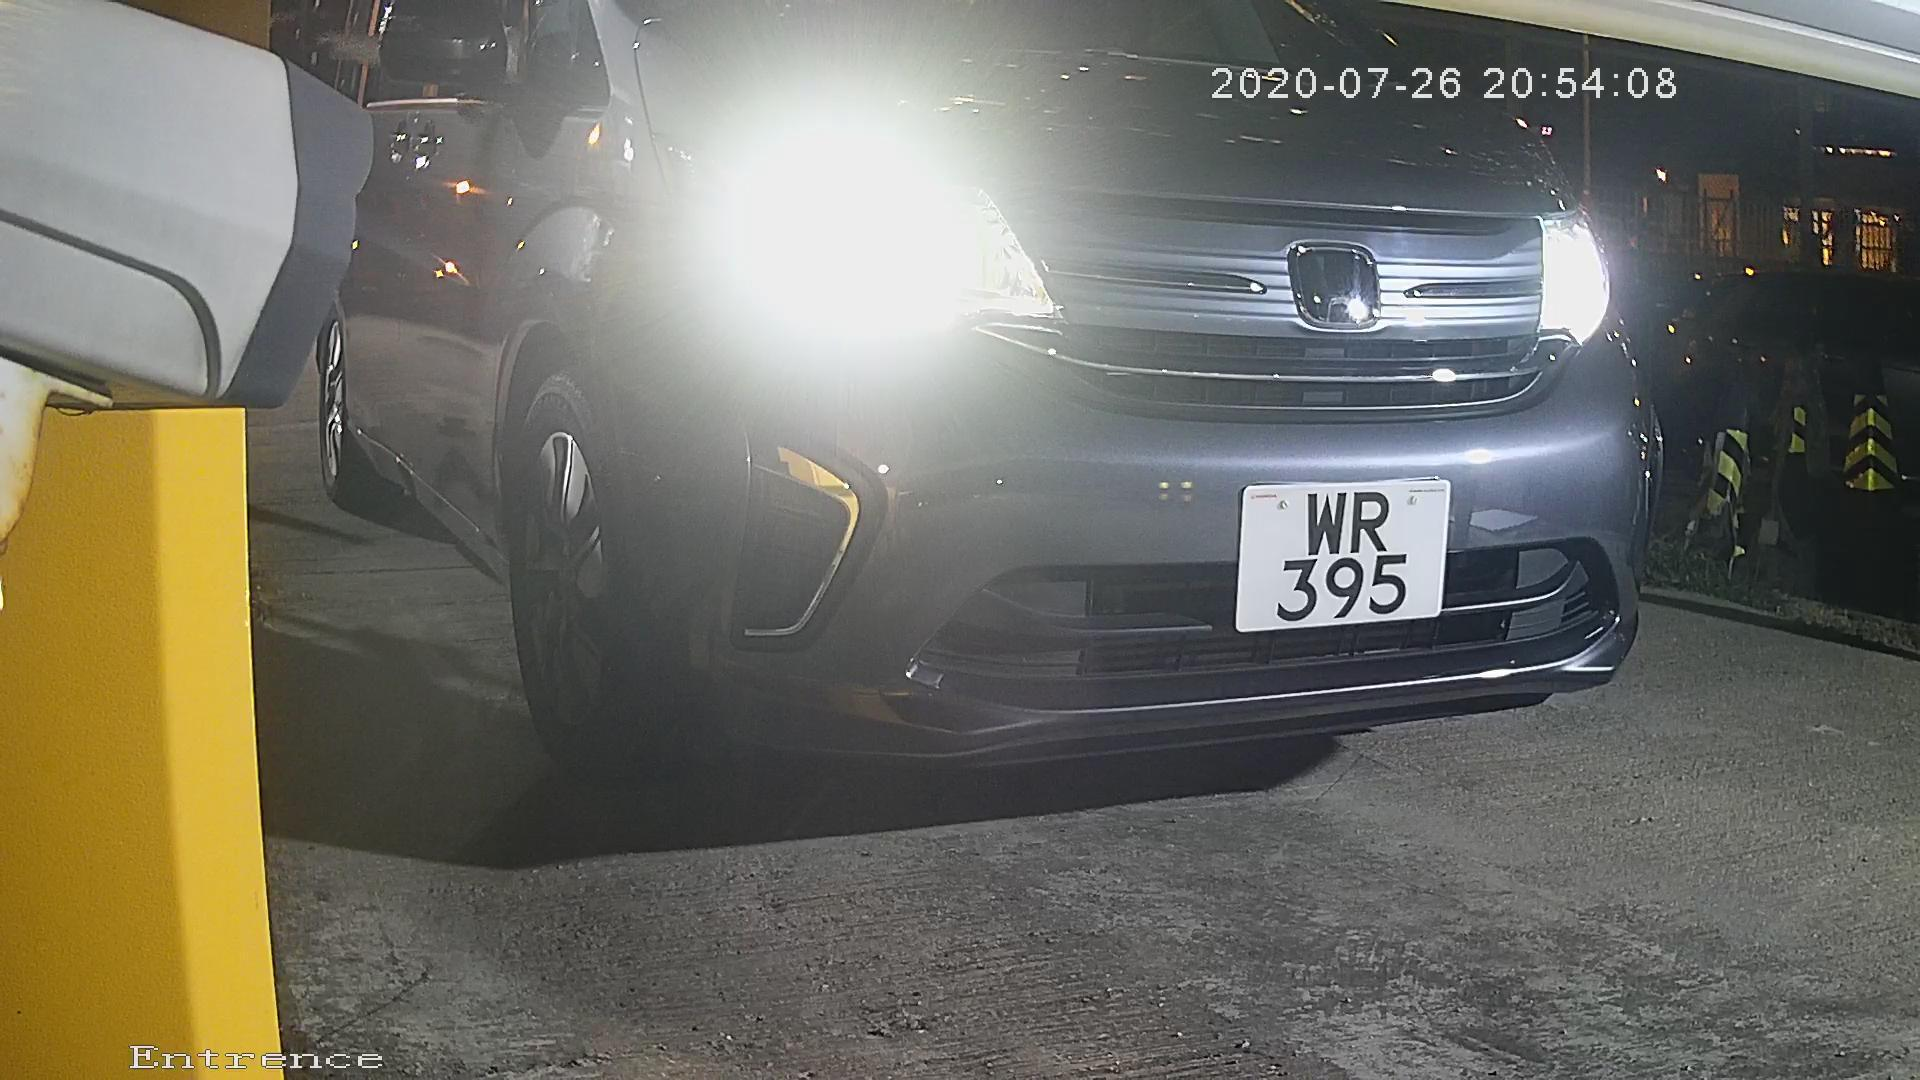Car: (138, 54, 1732, 820)
License Plate: (1209, 468, 1466, 647)
